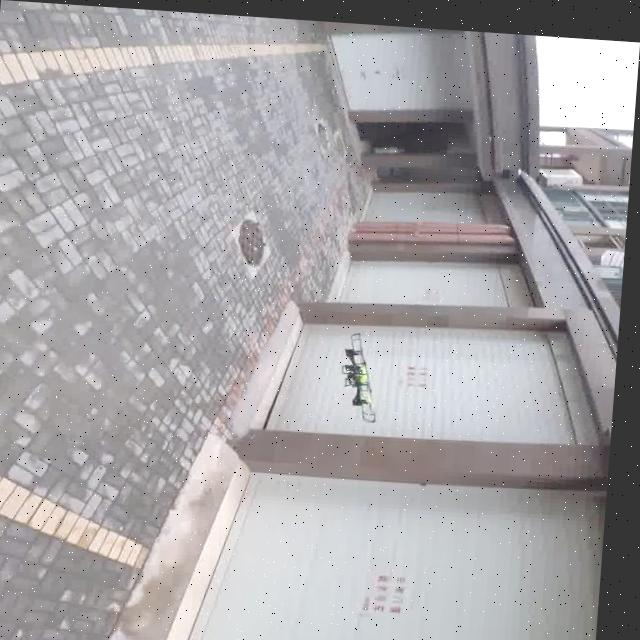drone: (336, 328, 394, 422)
